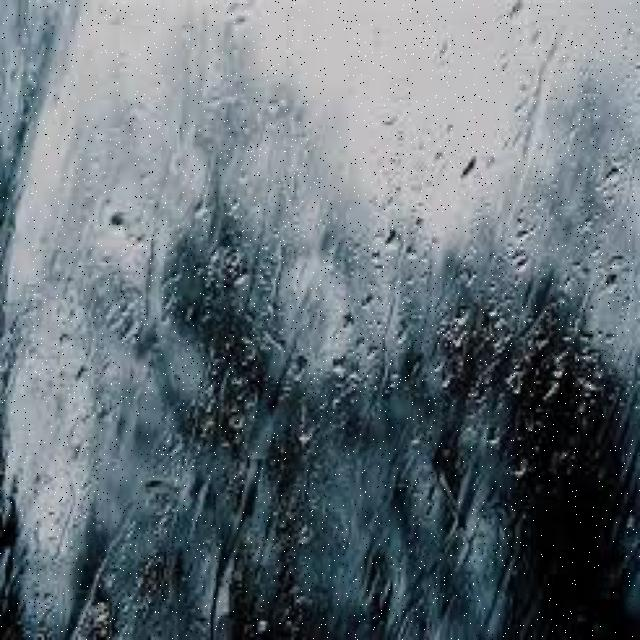raindrop: (430, 290, 480, 359), (440, 145, 491, 209), (283, 406, 324, 474), (588, 154, 630, 217), (89, 198, 129, 262), (590, 261, 626, 306), (372, 221, 406, 268), (503, 446, 536, 493), (504, 366, 528, 404)
